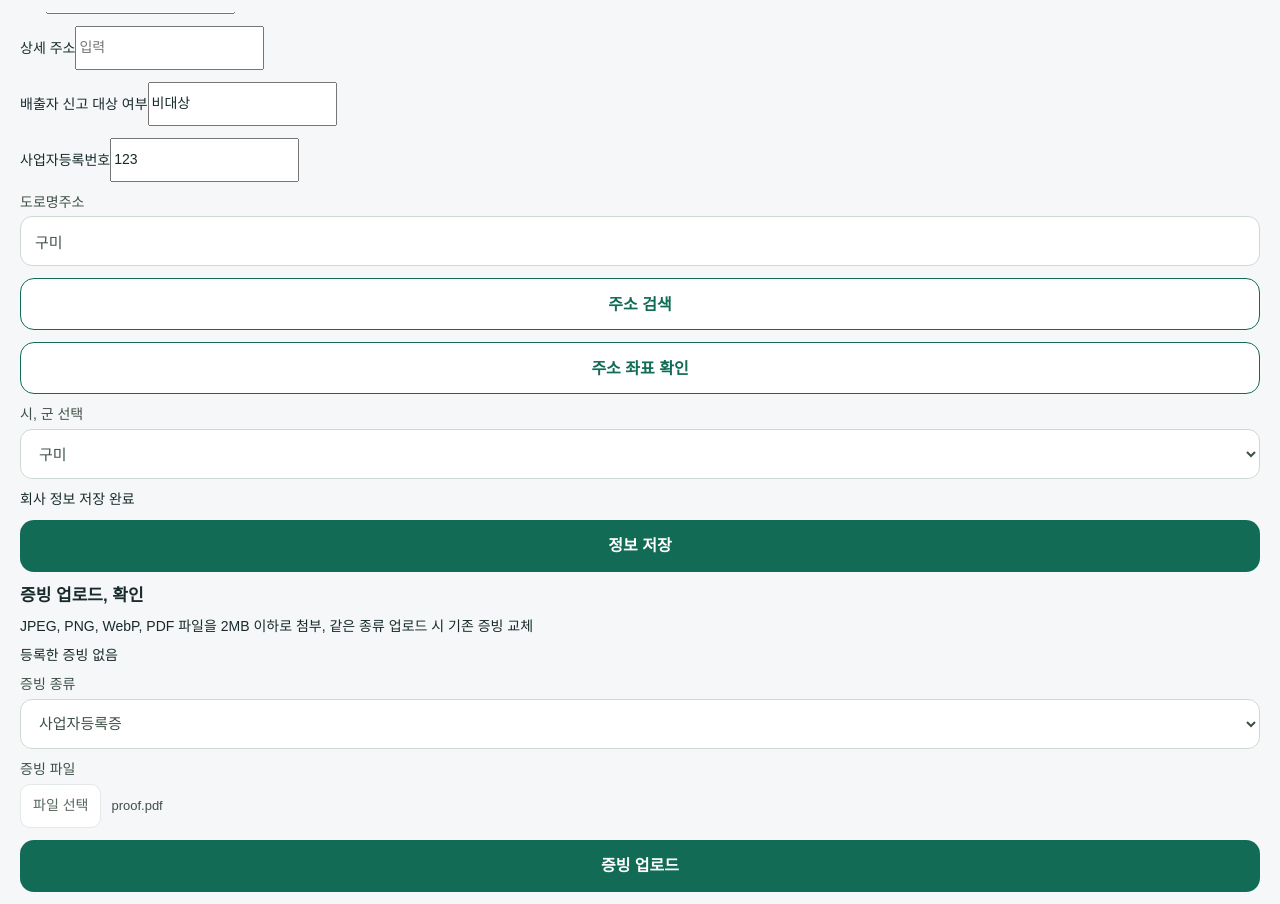
9 회사 전화·배출자 신고 저장과 증빙 업로드·확인
The image size is (1280, 904).
Earlier steps of the test are not shown.
Click the button "증빙 업로드": (640, 866) [20,840,1260,892]
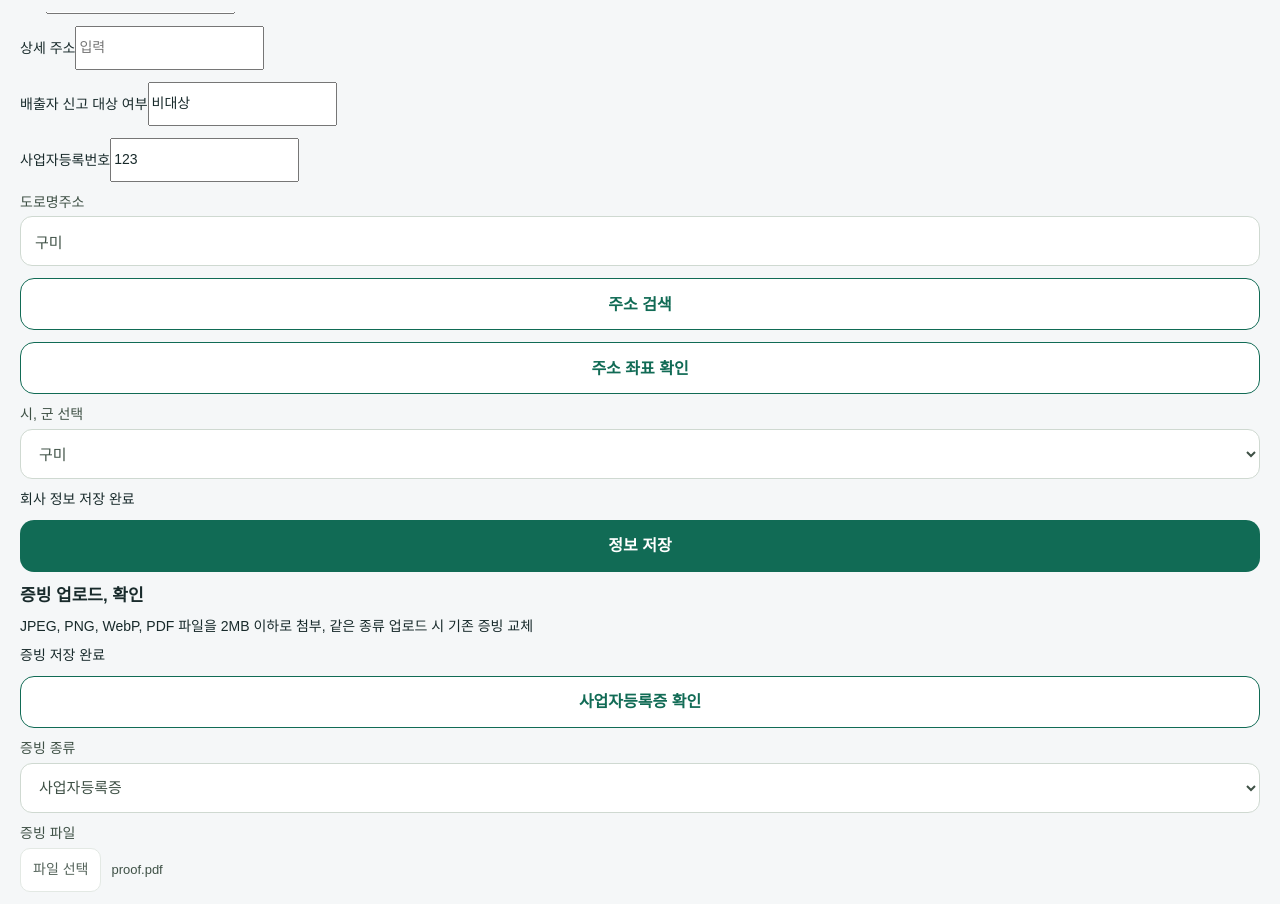
expect the button "사업자등록증 확인" is shown: met, box [20,676,1260,728]
